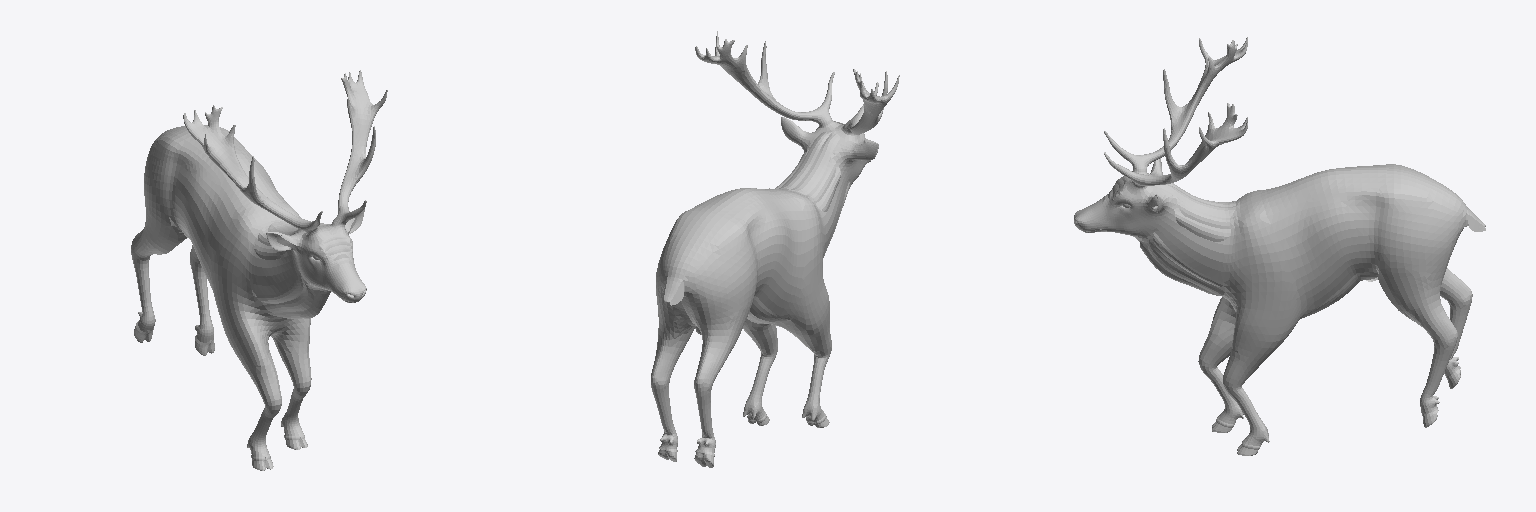
The model's file is frame_0022_uv.obj.
The picture shows the model from 3 angles: view 1: azimuth 30°, elevation 25°; view 2: azimuth 150°, elevation 25°; view 3: azimuth 270°, elevation 25°; orthographic projection.
Parts seen in each view (by area): view 1: pMesh1; view 2: pMesh1; view 3: pMesh1.
Part boxes in pixels (left/top/right/bottom): pMesh1: left=131, top=70, right=387, bottom=470; pMesh1: left=651, top=31, right=899, bottom=467; pMesh1: left=1074, top=37, right=1485, bottom=455.
Bounding box in the file's own units: 1.05 × 2.02 × 2.05.